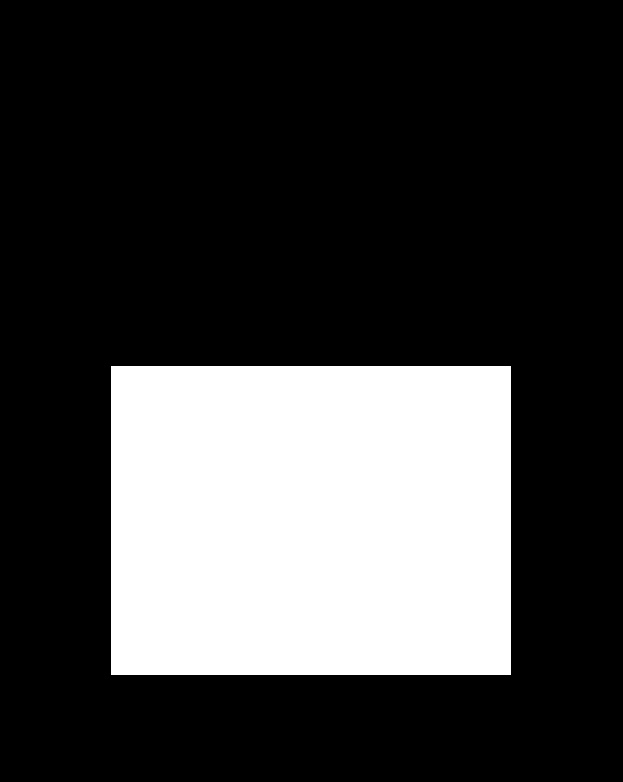table: (111, 366, 510, 674)
